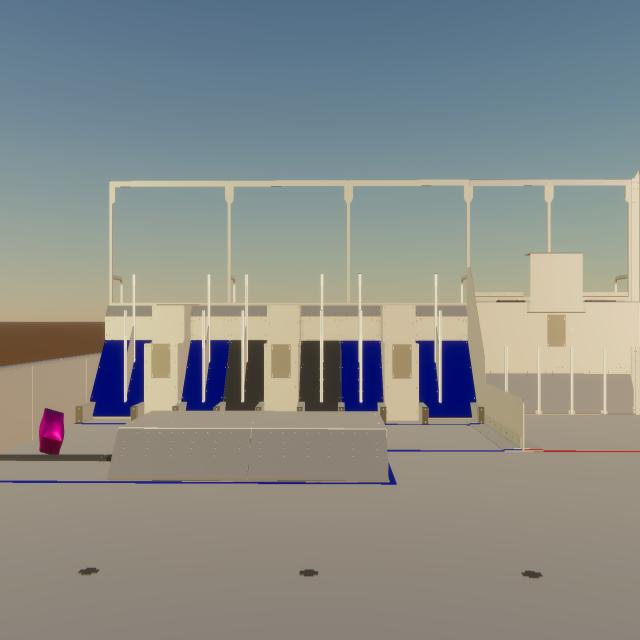frc_cube: (39, 408, 64, 454)
